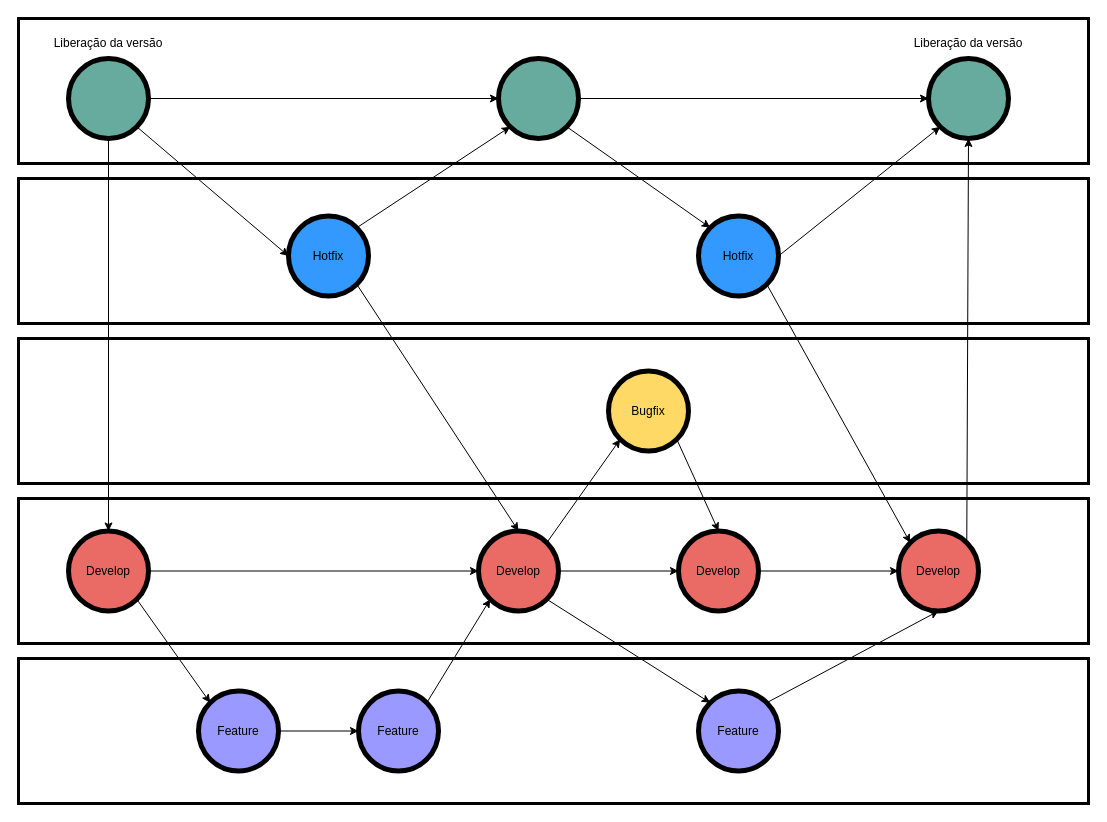
The diagram is 1107 pixels wide and 822 high, and some of its shapes have lost their labels. Each missing label, with the centre of its shape:
"Master V 3.0" belongs at pixel 108 98.
"Master V 3.1" belongs at pixel 538 98.
"Master V 4.0" belongs at pixel 968 98.
